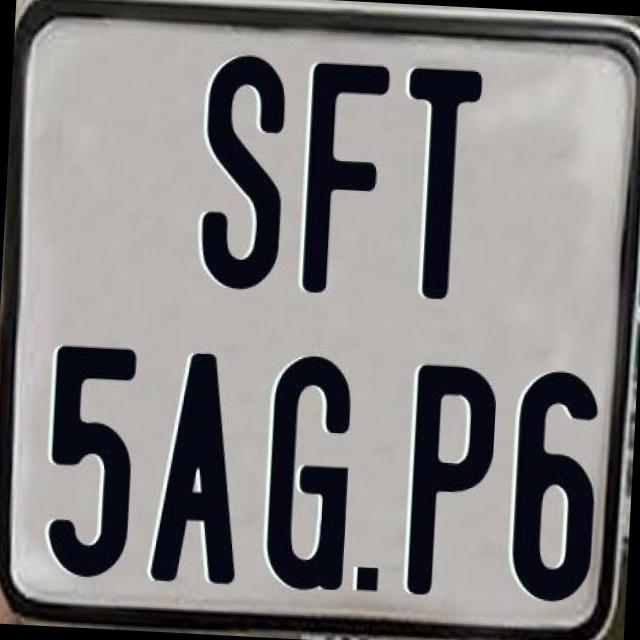5: (41, 344, 136, 587)
6: (506, 369, 602, 610)
A: (146, 351, 249, 584)
F: (297, 60, 388, 302)
G: (262, 354, 358, 594)
P: (406, 363, 501, 601)
S: (194, 51, 284, 295)
T: (396, 62, 486, 300)
